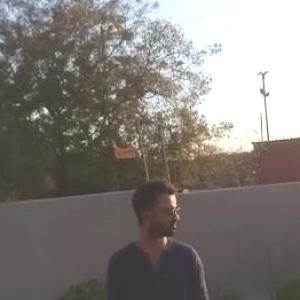follow: (100, 165, 222, 299)
